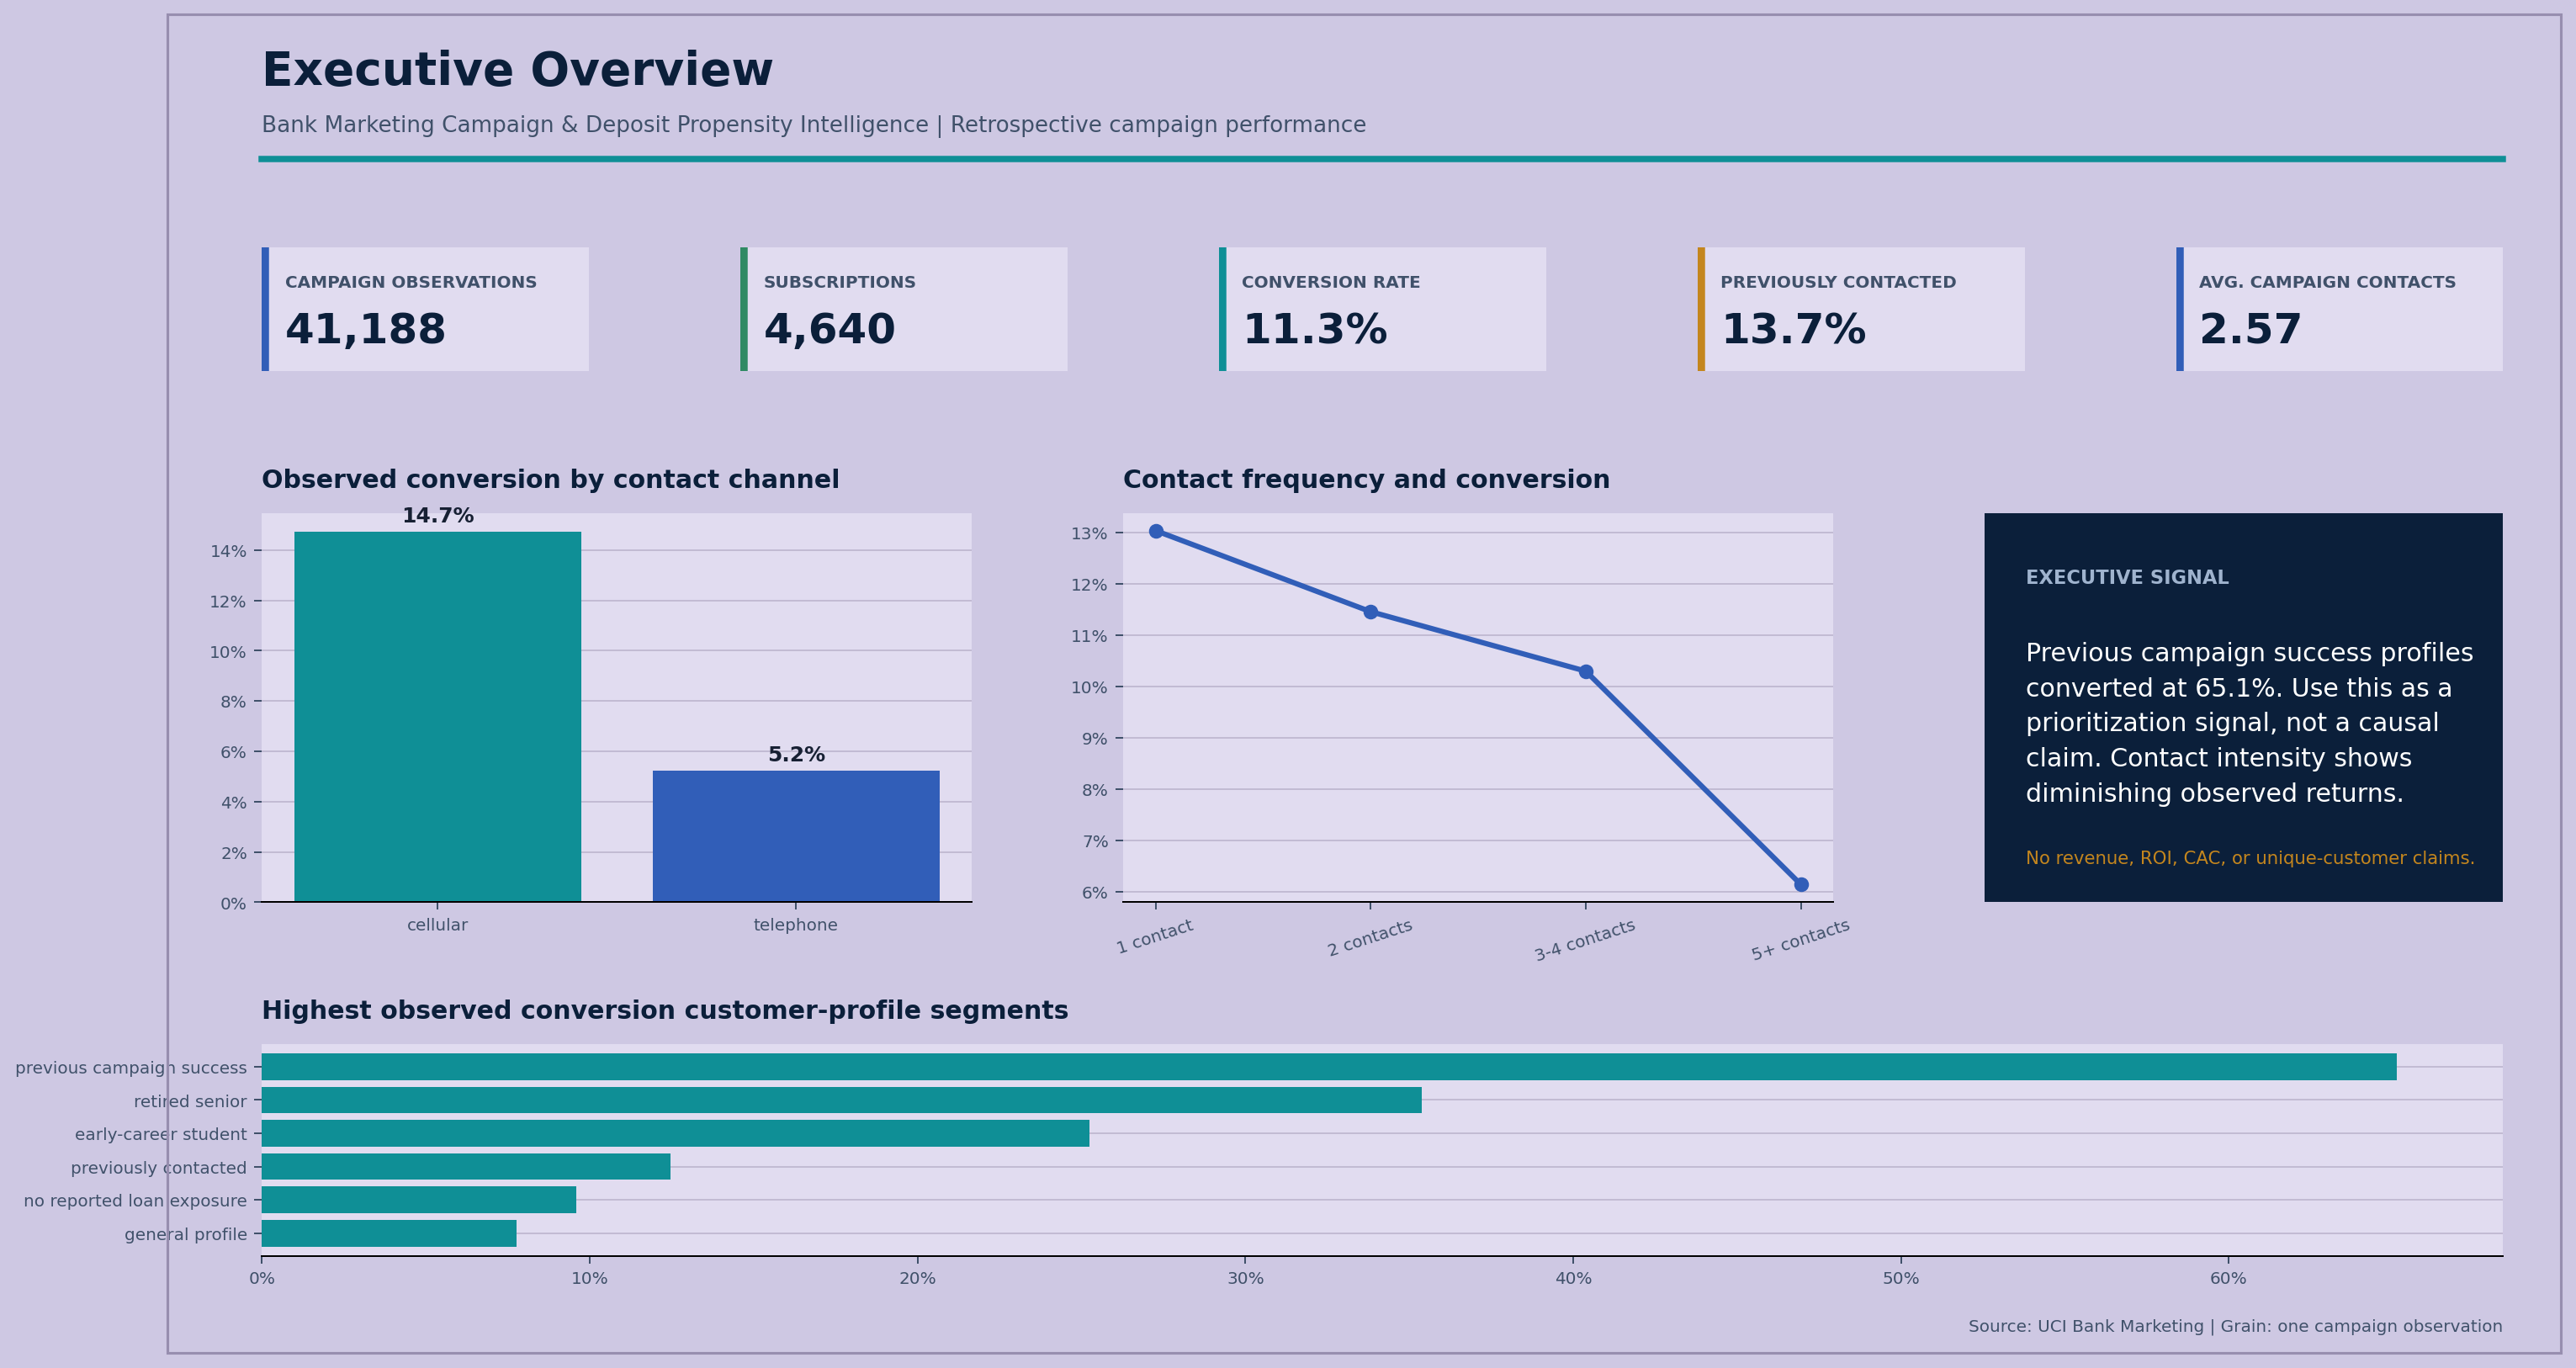

Layout of this report page (visuals, bound fields, positions):
{"tool":"powerbi","page":{"name":"Executive Overview","canvas":[1280,720],"ordinal":0},"visuals":[{"type":"shape","box":[45,8.3,1188.3,91.7],"z":0},{"type":"card","fields":{"Values":["_Measures.Campaign Observations"]},"box":[44.3,106.7,228.6,95.7],"z":1000},{"type":"card","fields":{"Values":["_Measures.Successful Subscriptions"]},"box":[284.3,106.7,228.6,95.7],"z":2000},{"type":"card","fields":{"Values":["_Measures.Deposit Conversion Rate"]},"box":[524.3,106.7,228.6,95.7],"z":3000},{"type":"card","fields":{"Values":["_Measures.Previously Contacted Rate"]},"box":[764.3,106.7,228.6,95.7],"z":4000},{"type":"card","fields":{"Values":["_Measures.Average Campaign Contacts"]},"box":[1004.3,106.7,230,95.7],"z":5000},{"type":"clusteredColumnChart","title":"Conversion by Contact Channel","fields":{"Category":["dim_contact.contact_channel"],"Y":["_Measures.Deposit Conversion Rate"]},"box":[44.4,212.5,637.5,225],"z":6000},{"type":"clusteredBarChart","title":"Top Customer Segments by Conversion","fields":{"Category":["fact_campaign_contact.customer_profile_segment"],"Y":["_Measures.Deposit Conversion Rate"]},"box":[44.3,443.9,637.8,242.2],"z":7000},{"type":"lineChart","title":"Conversion by Contact Frequency","fields":{"Category":["dim_contact.campaign_contact_band"],"Y":["_Measures.Deposit Conversion Rate"]},"box":[695.2,212.5,539.2,225],"z":8000},{"type":"textbox","box":[695.4,444.3,539,242],"z":9000},{"type":"textbox","box":[122,15.9,350,55],"z":10000},{"type":"textbox","box":[124.4,63.1,350,30.8],"z":11000},{"type":"image","box":[56.2,27.7,63.8,63.8],"z":12000},{"type":"image","box":[50.4,111.7,61.4,58.9],"z":13000},{"type":"image","box":[290,111.7,62.1,58.9],"z":14000},{"type":"image","box":[529.3,111.7,61.8,58.9],"z":15000},{"type":"image","box":[772.4,112,61.8,58.8],"z":16000},{"type":"image","box":[1012.4,112,61.8,58.8],"z":17000}]}

Visuals, with their boxes on the page's 1280x720 design canvas (x1, y1, x2, y2). These are canvas units, not pixel positions in the 2576x1368 screenshot, which may show the page scaled, cropped or inside an application window:
shape: (45,8,1233,100)
card - _Measures.Campaign Observations: (44,107,273,202)
card - _Measures.Successful Subscriptions: (284,107,513,202)
card - _Measures.Deposit Conversion Rate: (524,107,753,202)
card - _Measures.Previously Contacted Rate: (764,107,993,202)
card - _Measures.Average Campaign Contacts: (1004,107,1234,202)
"Conversion by Contact Channel" clusteredColumnChart: (44,212,682,438)
"Top Customer Segments by Conversion" clusteredBarChart: (44,444,682,686)
"Conversion by Contact Frequency" lineChart: (695,212,1234,438)
textbox: (695,444,1234,686)
textbox: (122,16,472,71)
textbox: (124,63,474,94)
image: (56,28,120,92)
image: (50,112,112,171)
image: (290,112,352,171)
image: (529,112,591,171)
image: (772,112,834,171)
image: (1012,112,1074,171)
